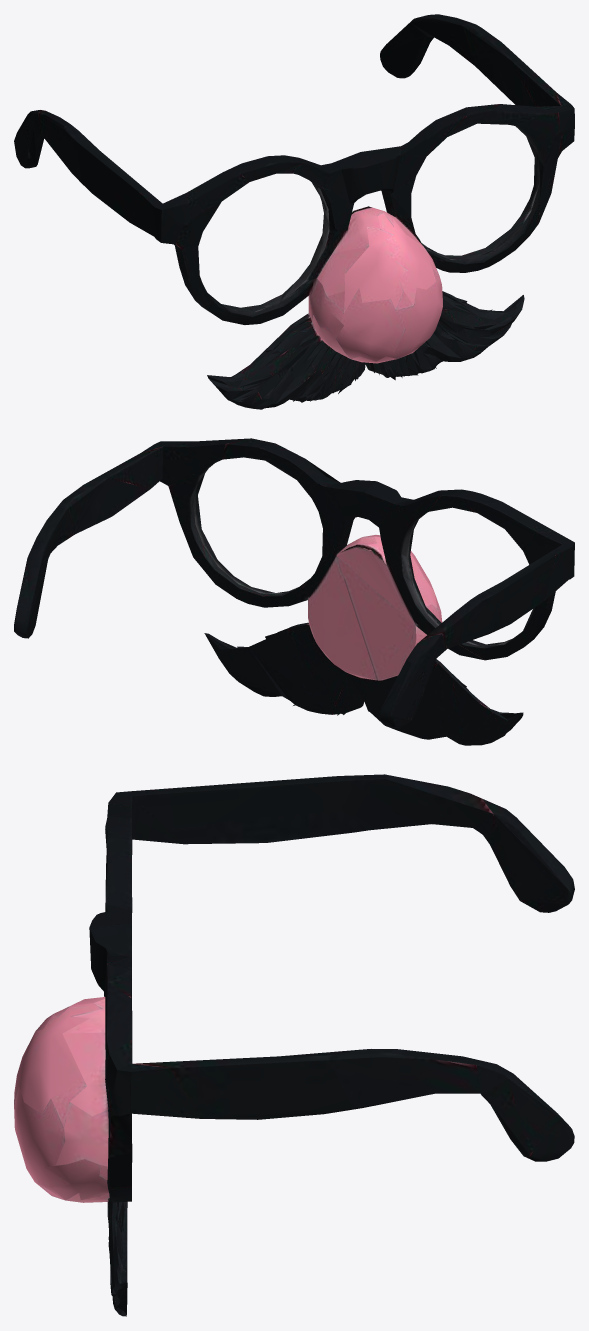
The model's file is groucho.glb.
3 renders of one model, top to bottom at view 1: azimuth 30°, elevation 25°; view 2: azimuth 150°, elevation 25°; view 3: azimuth 270°, elevation 25°, orthographic. The views are drawn at different scales.
Bounding box in the file's own units: 1.9 × 1.09 × 1.59.
Materials: 1 (1 with a texture image).
